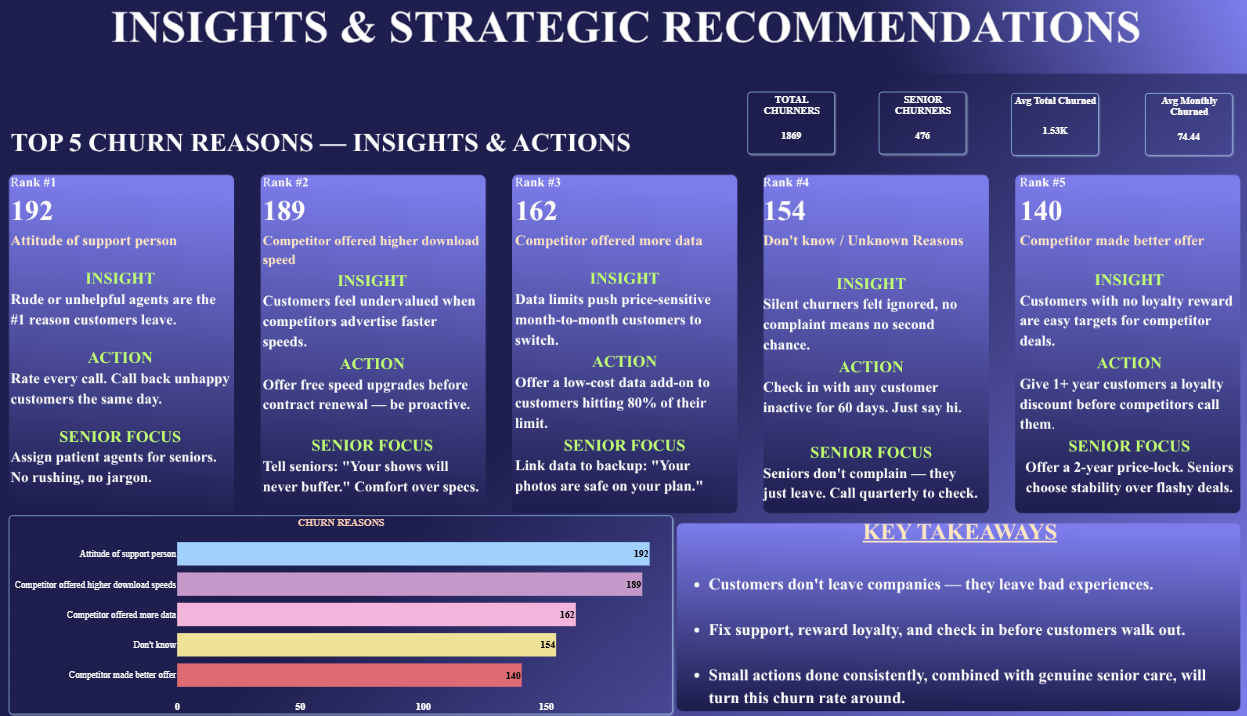

What the dashboard file says about the page in this screenshot:
{"tool":"powerbi","page":{"name":"INSIGHTS & RECOMMENDATIONS ","canvas":[9999,5800],"ordinal":2},"visuals":[{"type":"barChart","title":"CHURN REASONS","fields":{"Category":["Sheet1.Churn Reason"],"Y":["Count(Sheet1.CustomerID)"]},"box":[70,4140,5310,1590],"z":0},{"type":"card","title":"TOTAL CHURNERS","fields":{"Values":["Count(Sheet1.CustomerID)"]},"box":[5978,754,700,500],"z":1},{"type":"card","title":" SENIOR CHURNERS","fields":{"Values":["Count(Sheet1.CustomerID)"]},"box":[7028,754,700,500],"z":2},{"type":"card","title":"Avg Monthly Churned","fields":{"Values":["Sheet1.Avg Monthly Churned"]},"box":[9162,756,700,500],"z":3},{"type":"card","title":"Avg Total Churned","fields":{"Values":["Sheet1.Avg Total Churned"]},"box":[8092,756,700,500],"z":4}]}

Visuals, with their boxes in screenshot pixels (x1, y1, x2, y2), scaled from the page's 9999x5800 canvas onto the 1247x716 screenshot:
"CHURN REASONS" barChart: 9,511,671,707
"TOTAL CHURNERS" card: 746,93,833,155
" SENIOR CHURNERS" card: 876,93,964,155
"Avg Monthly Churned" card: 1143,93,1230,155
"Avg Total Churned" card: 1009,93,1096,155
